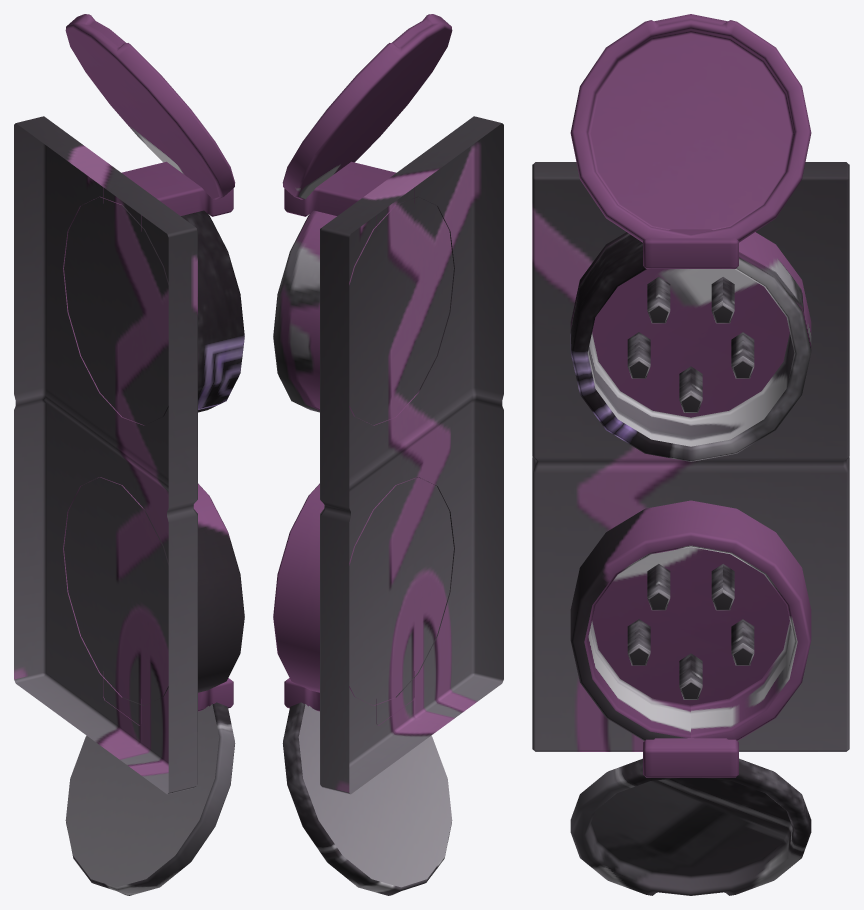
The model's file is SM_EDSWallSocket2.fbx.
3 renders of one model, left to right at view 1: azimuth 30°, elevation 25°; view 2: azimuth 150°, elevation 25°; view 3: azimuth 270°, elevation 25°, orthographic. The views are drawn at different scales.
Visible parts, largest first — view 1: Wall Socket 2; view 2: Wall Socket 2; view 3: Wall Socket 2, Wall Socket pins 2.
Part boxes in pixels (left/top/right/bottom): Wall Socket 2: left=14, top=14, right=244, bottom=895; Wall Socket 2: left=273, top=14, right=503, bottom=895; Wall Socket 2: left=532, top=14, right=849, bottom=895; Wall Socket pins 2: left=627, top=277, right=754, bottom=699.
Size of the model in its own units: 4.41 by 9.78 by 29.74.
